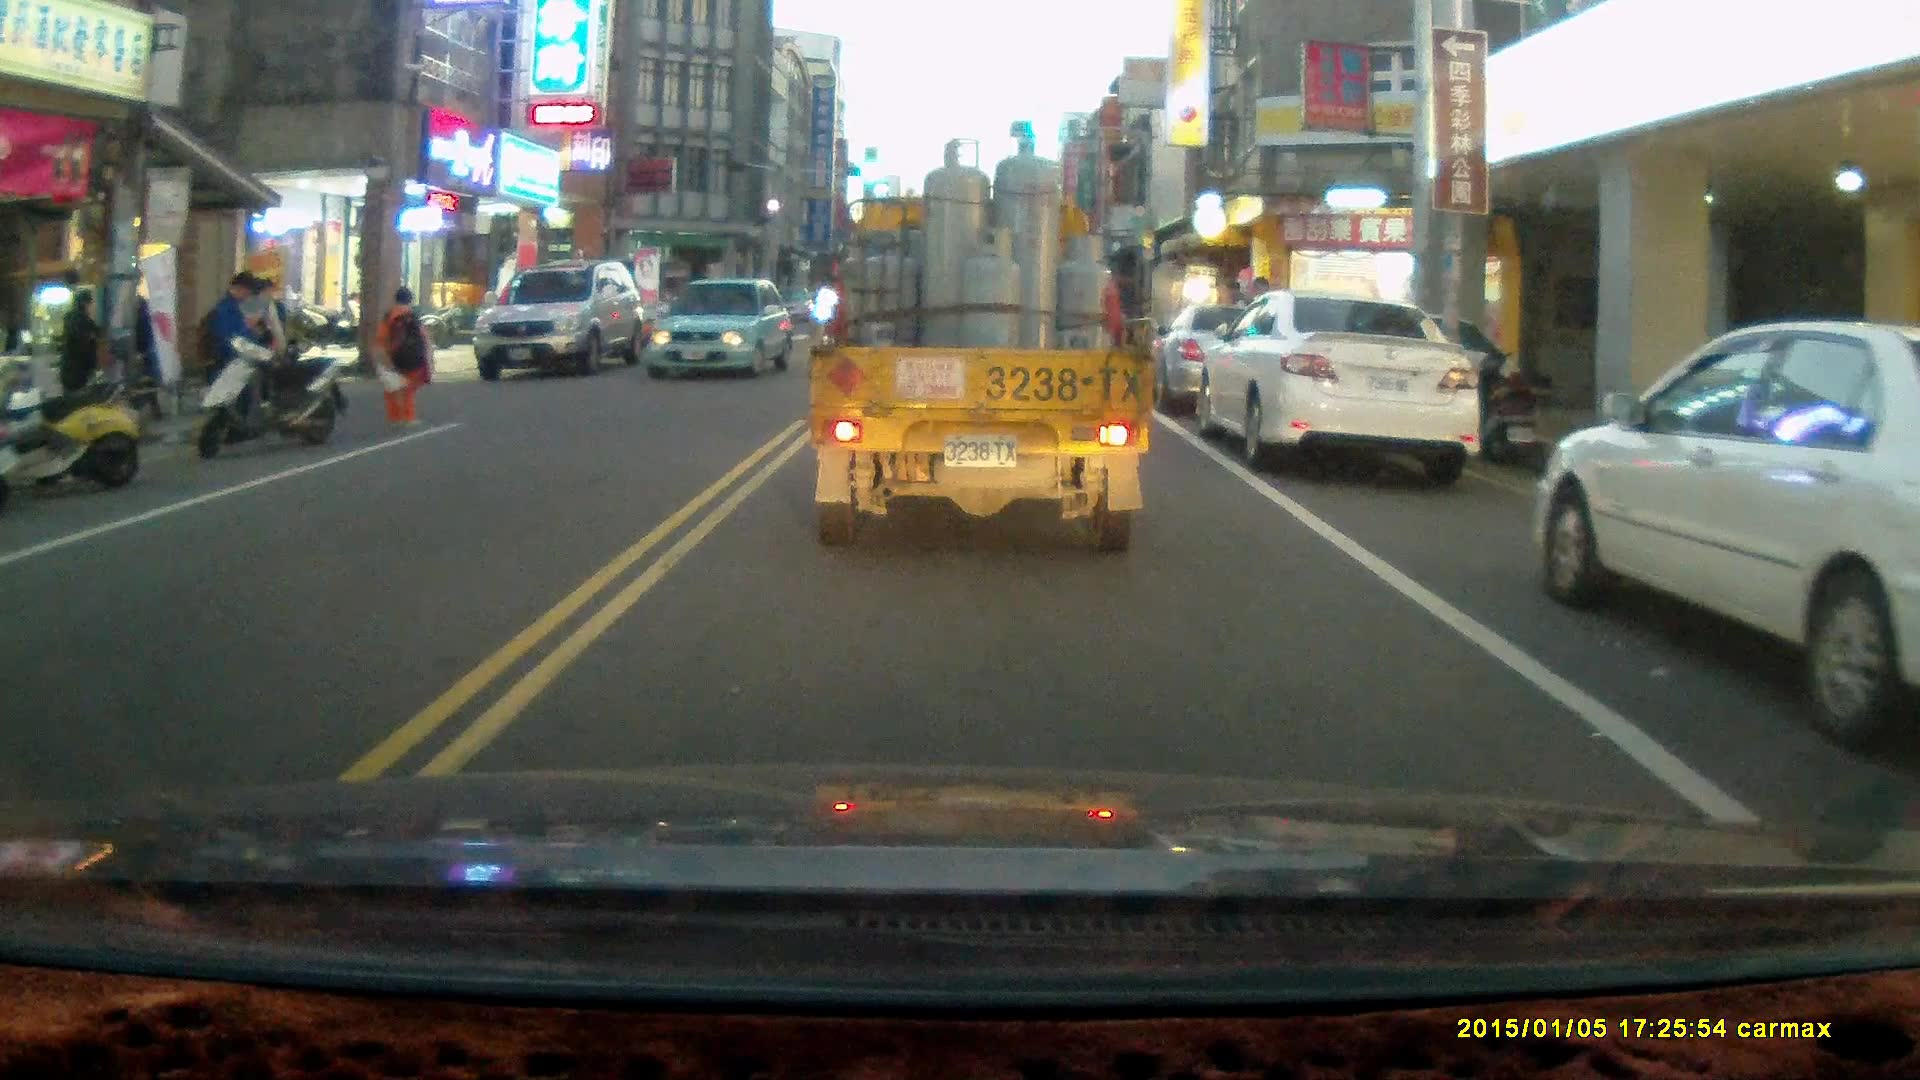pedestrian: (189, 271, 263, 443), (373, 284, 437, 424), (53, 285, 100, 442)
vehicle: (1530, 320, 1920, 760), (807, 132, 1161, 557), (1197, 289, 1482, 478), (1145, 300, 1357, 421), (476, 260, 645, 386), (645, 278, 794, 383)
